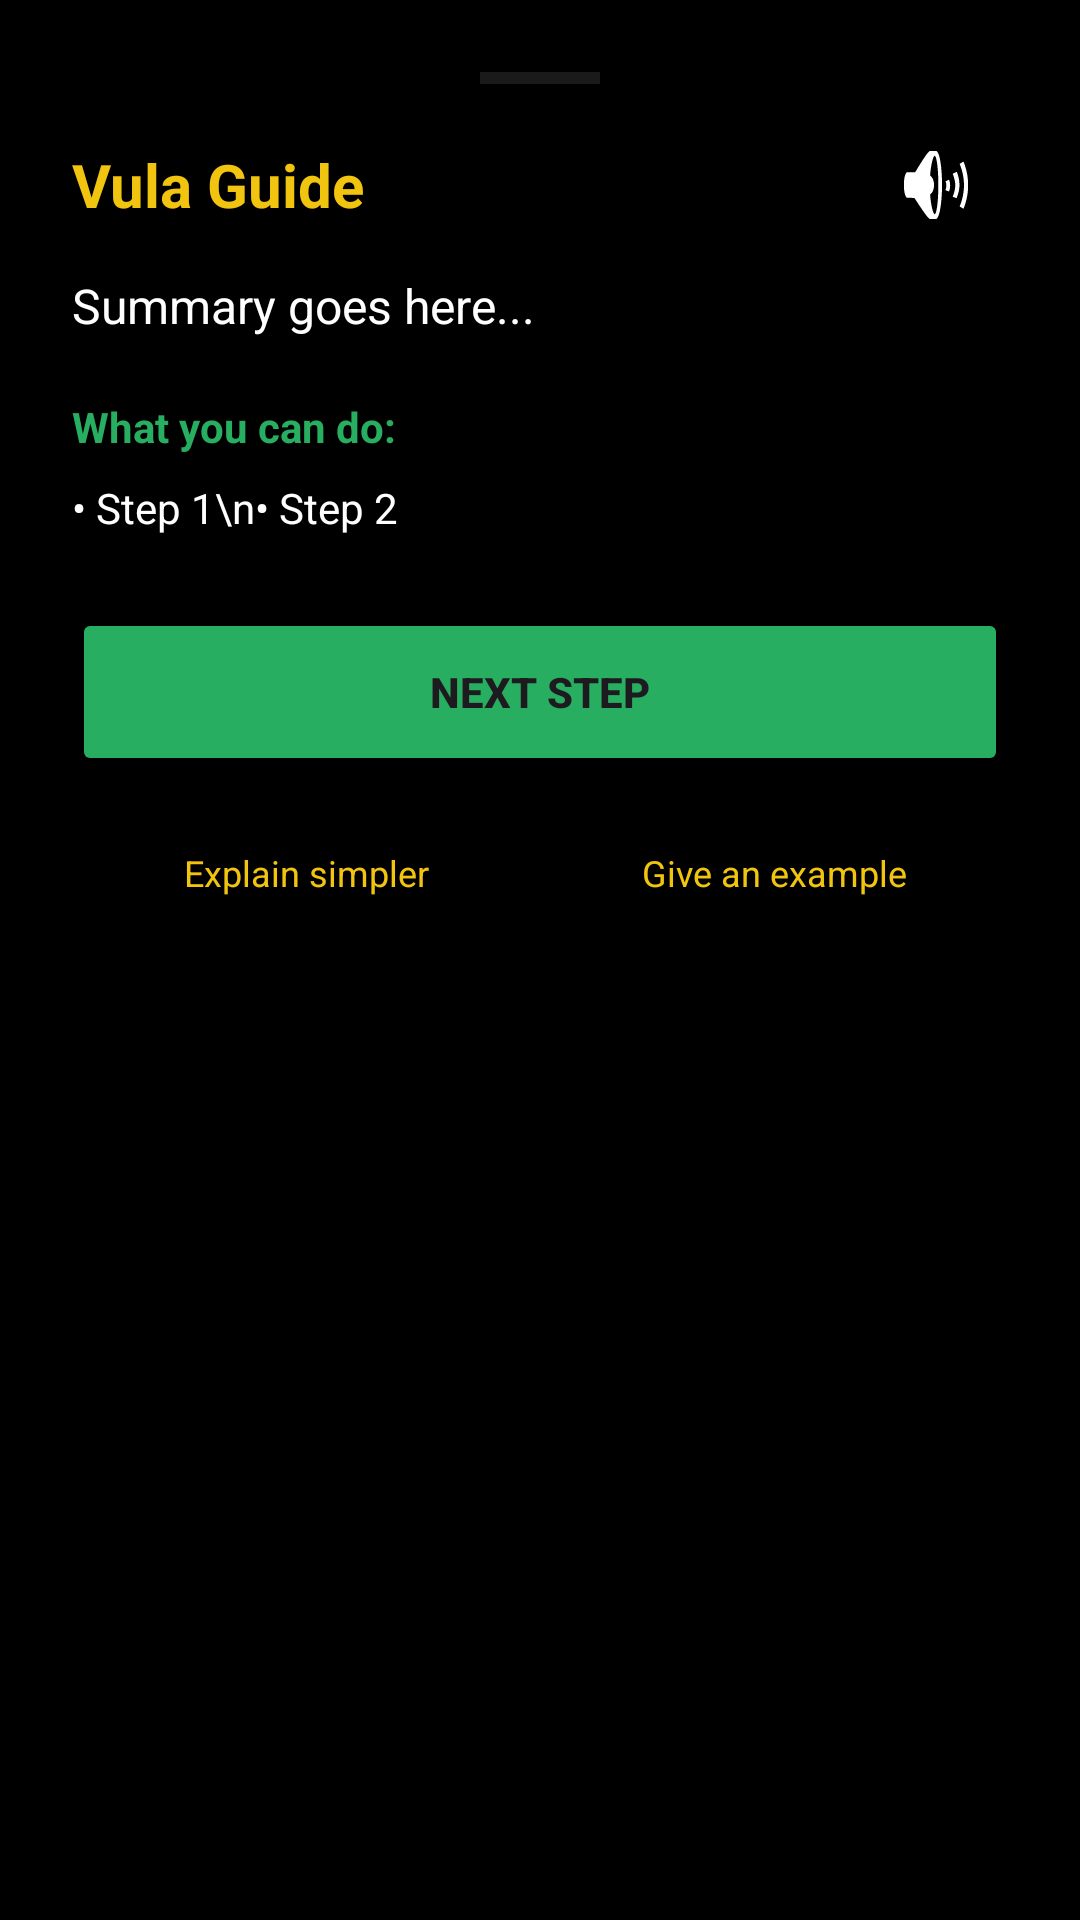

Where icons sit on this 1080px x 1920px app screen, as Rect(x1, y1, x2, y2):
Listen to explanation: Rect(904, 151, 968, 219)
